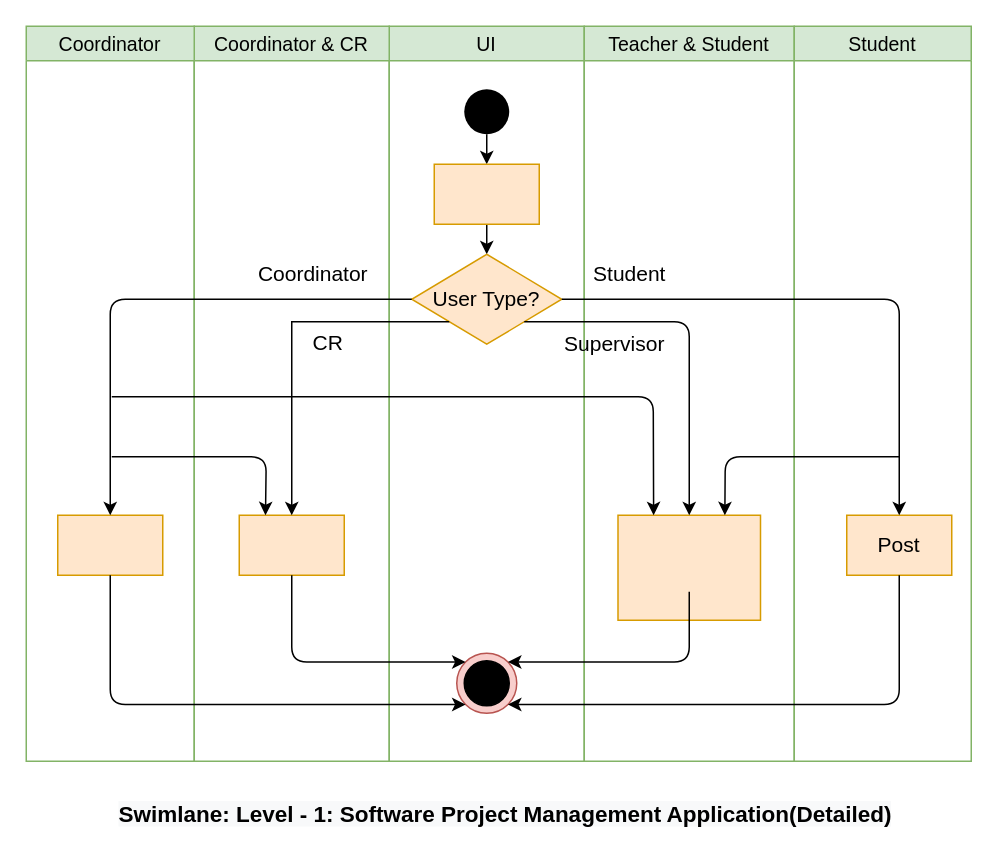
This 998x863 diagram has some shape labels left out. Here are the shapes that lost their labels. From the top down, the centre of each, then its label:
the point at 486,193: Start
the point at 109,544: Group
the point at 291,544: Batch
the point at 688,567: Activity & Marks Distribution
